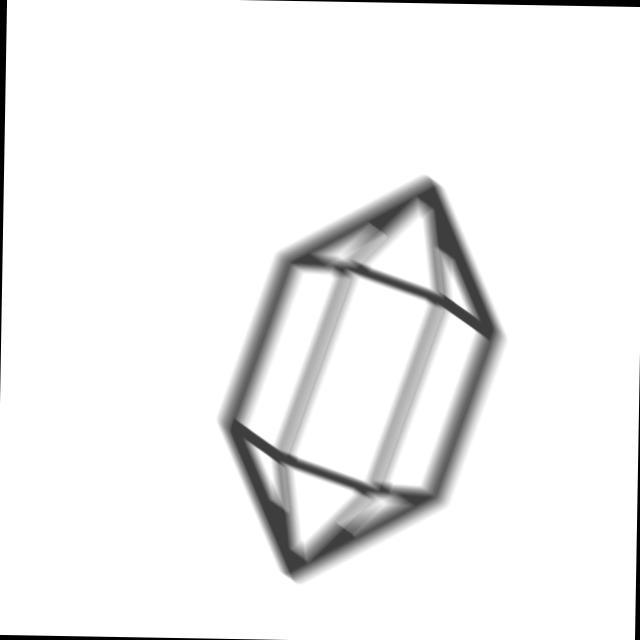crystal: (207, 164, 515, 593)
